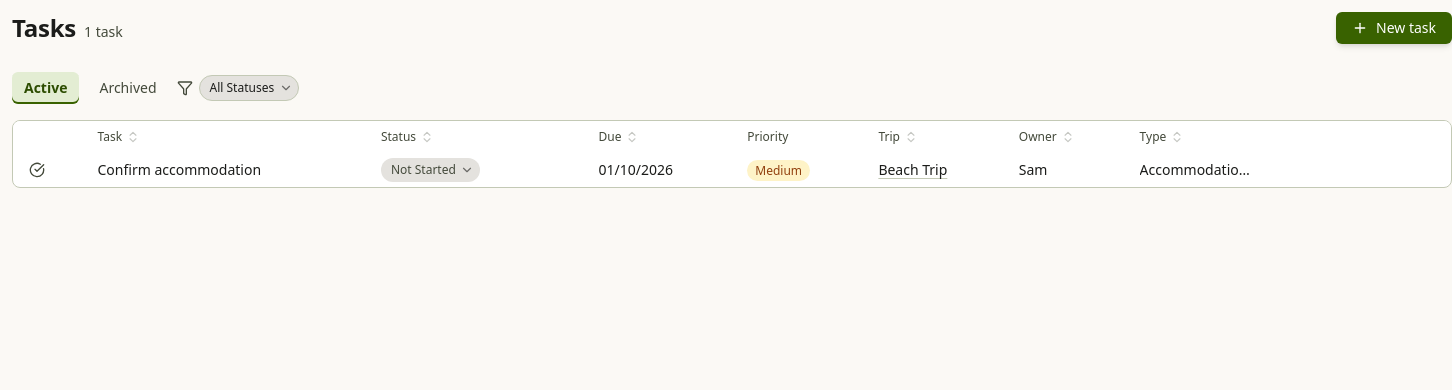
TasksPage — PP-58 status change error handling › shows an alert under the row when the status mutation fails
The image size is (1452, 390).
Click the button "Not Started" at (430,170), box x1=381 y1=158 x2=480 y2=182
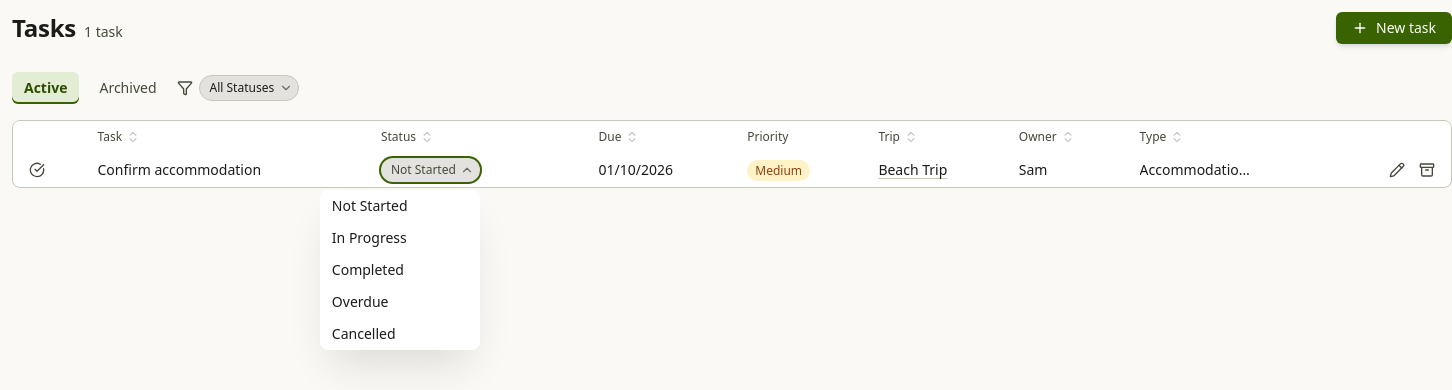
Click the option "Completed" at (368,270), box x1=332 y1=260 x2=404 y2=279
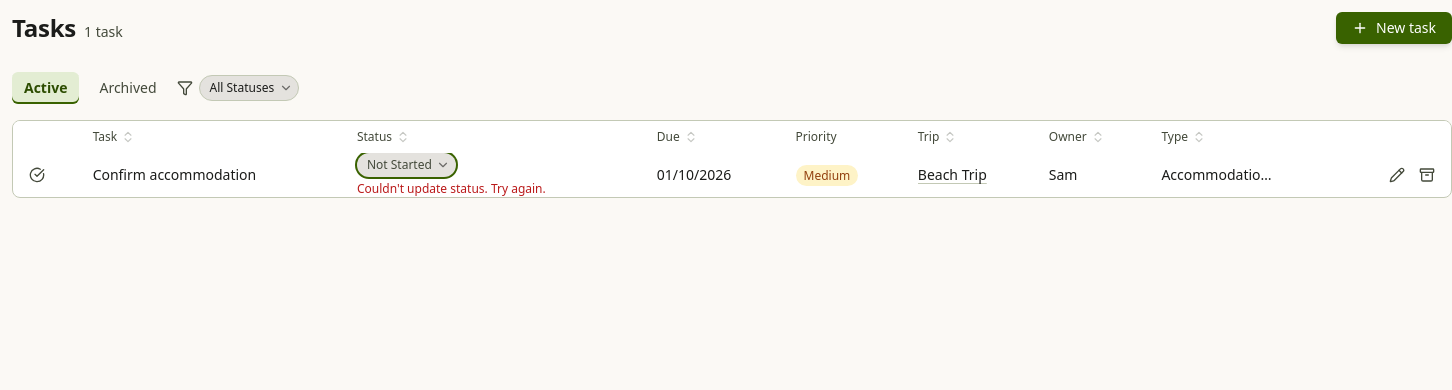
expect the message reads "Couldn't update status. Try again.": met, box x1=357 y1=180 x2=546 y2=197
